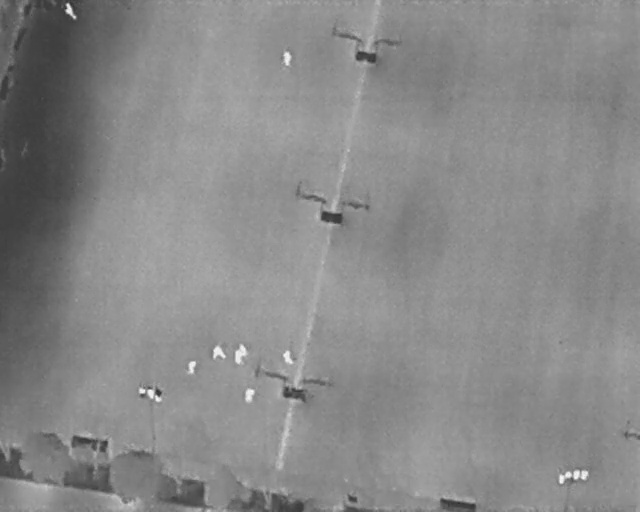Person: (212, 345, 226, 360), (65, 3, 77, 20), (282, 50, 293, 67), (283, 350, 295, 365), (187, 360, 197, 375), (245, 388, 255, 403), (239, 343, 249, 358), (235, 350, 244, 365)
